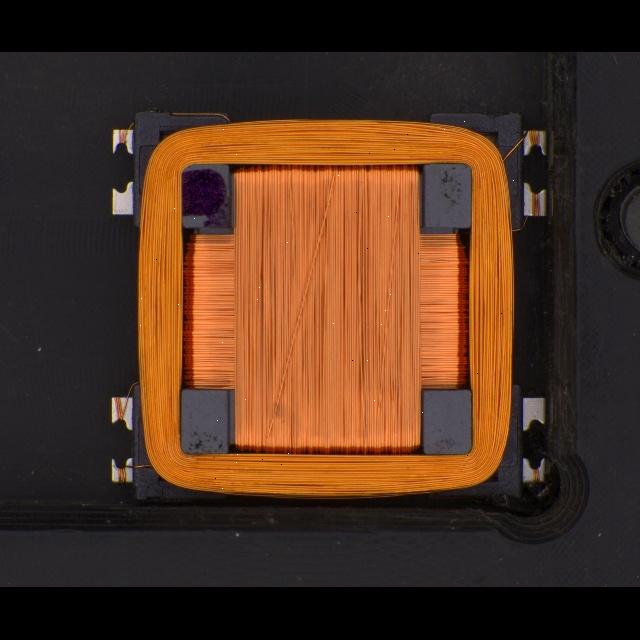Winding_Z: (130, 113, 520, 501)
